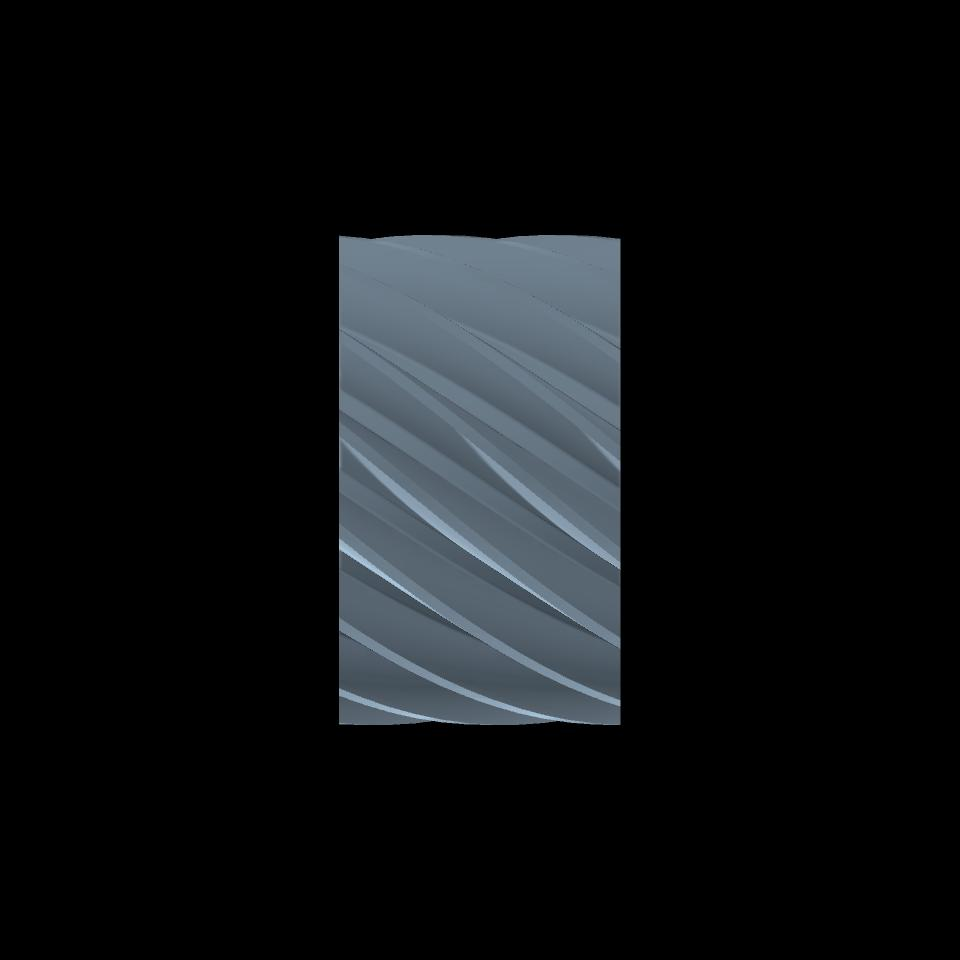Helical: (339, 236, 618, 724)
